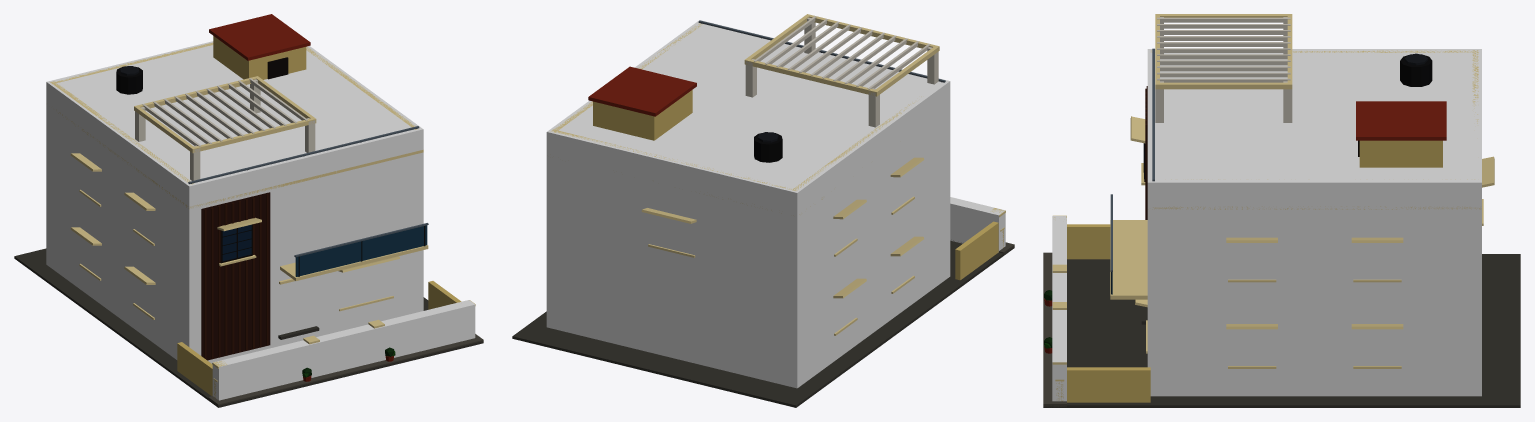
The model's file is B05_duplex_house.glb.
3 renders of one model, left to right at view 1: azimuth 30°, elevation 25°; view 2: azimuth 150°, elevation 25°; view 3: azimuth 270°, elevation 25°, orthographic. The views are drawn at different scales.
Parts seen in each view (by area): view 1: COL_Main, LOD0, COL_Compound; view 2: COL_Main, LOD0, COL_Compound; view 3: COL_Main, LOD0, COL_Compound.
Part boxes in pixels (x1=…): COL_Main: x1=46, y1=41, x2=423, y2=363; LOD0: x1=14, y1=14, x2=483, y2=407; COL_Compound: x1=212, y1=300, x2=475, y2=400; COL_Main: x1=546, y1=20, x2=950, y2=388; LOD0: x1=512, y1=14, x2=1014, y2=407; COL_Compound: x1=950, y1=197, x2=1005, y2=252; COL_Main: x1=1147, y1=49, x2=1481, y2=396; LOD0: x1=1043, y1=14, x2=1520, y2=407; COL_Compound: x1=1052, y1=216, x2=1066, y2=401.
Size of what is drawn, in the model's own units: 12 by 9.46 by 16.
